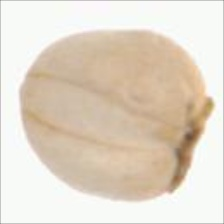L5: (16, 68, 172, 154), (161, 95, 217, 197)
L6: (15, 26, 217, 204)
